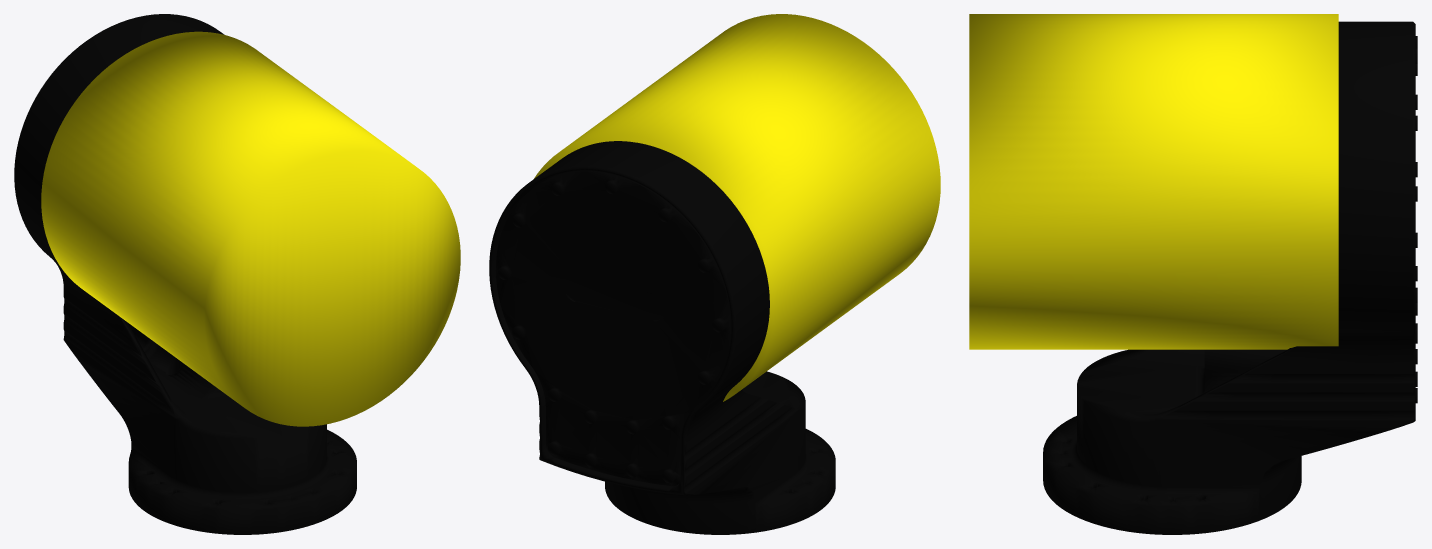
3 renders of one model, left to right at view 1: azimuth 30°, elevation 25°; view 2: azimuth 150°, elevation 25°; view 3: azimuth 270°, elevation 25°, orthographic. The views are drawn at different scales.
Parts seen in each view (by area): view 1: transform1; view 2: transform1; view 3: transform1.
Part boxes in pixels (bbox=[...]): transform1: bbox=[14, 14, 460, 534]; transform1: bbox=[489, 14, 940, 534]; transform1: bbox=[969, 14, 1417, 534].
Bounding box in the file's own units: 10.9 × 16.15 × 14.57.
1 material, 1 textured.
